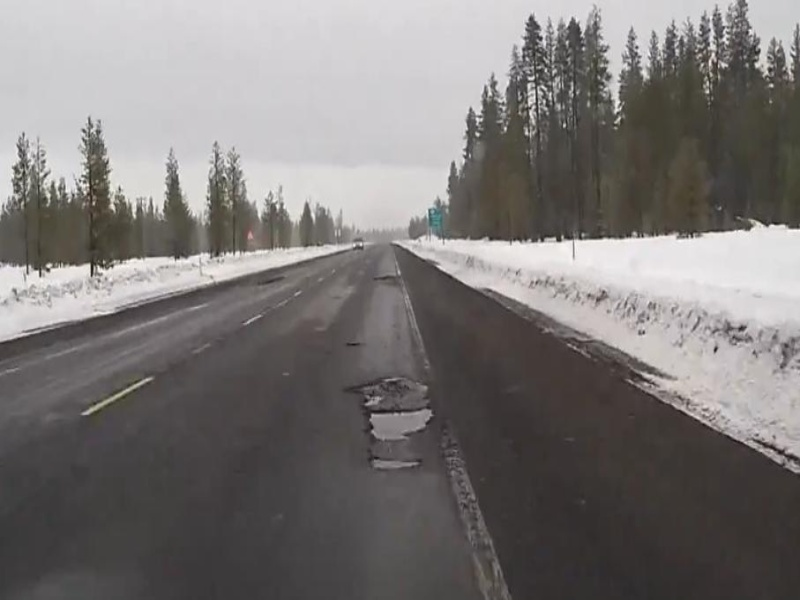pothole: (353, 372, 436, 441)
